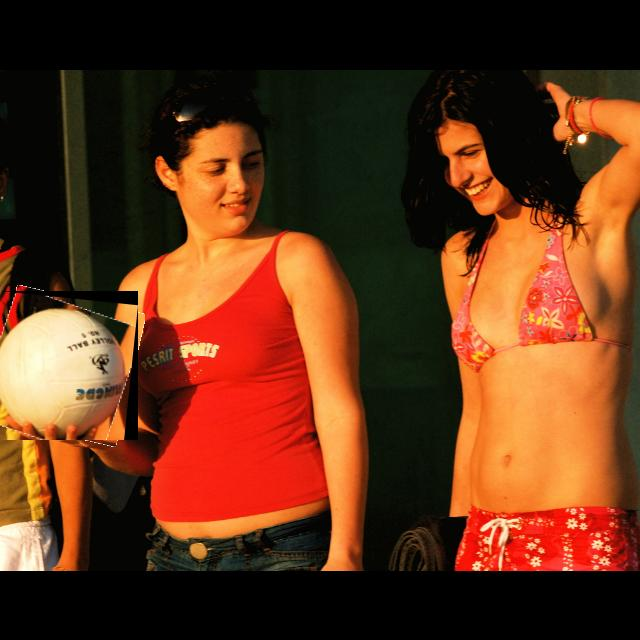Football: (0, 291, 138, 440)
